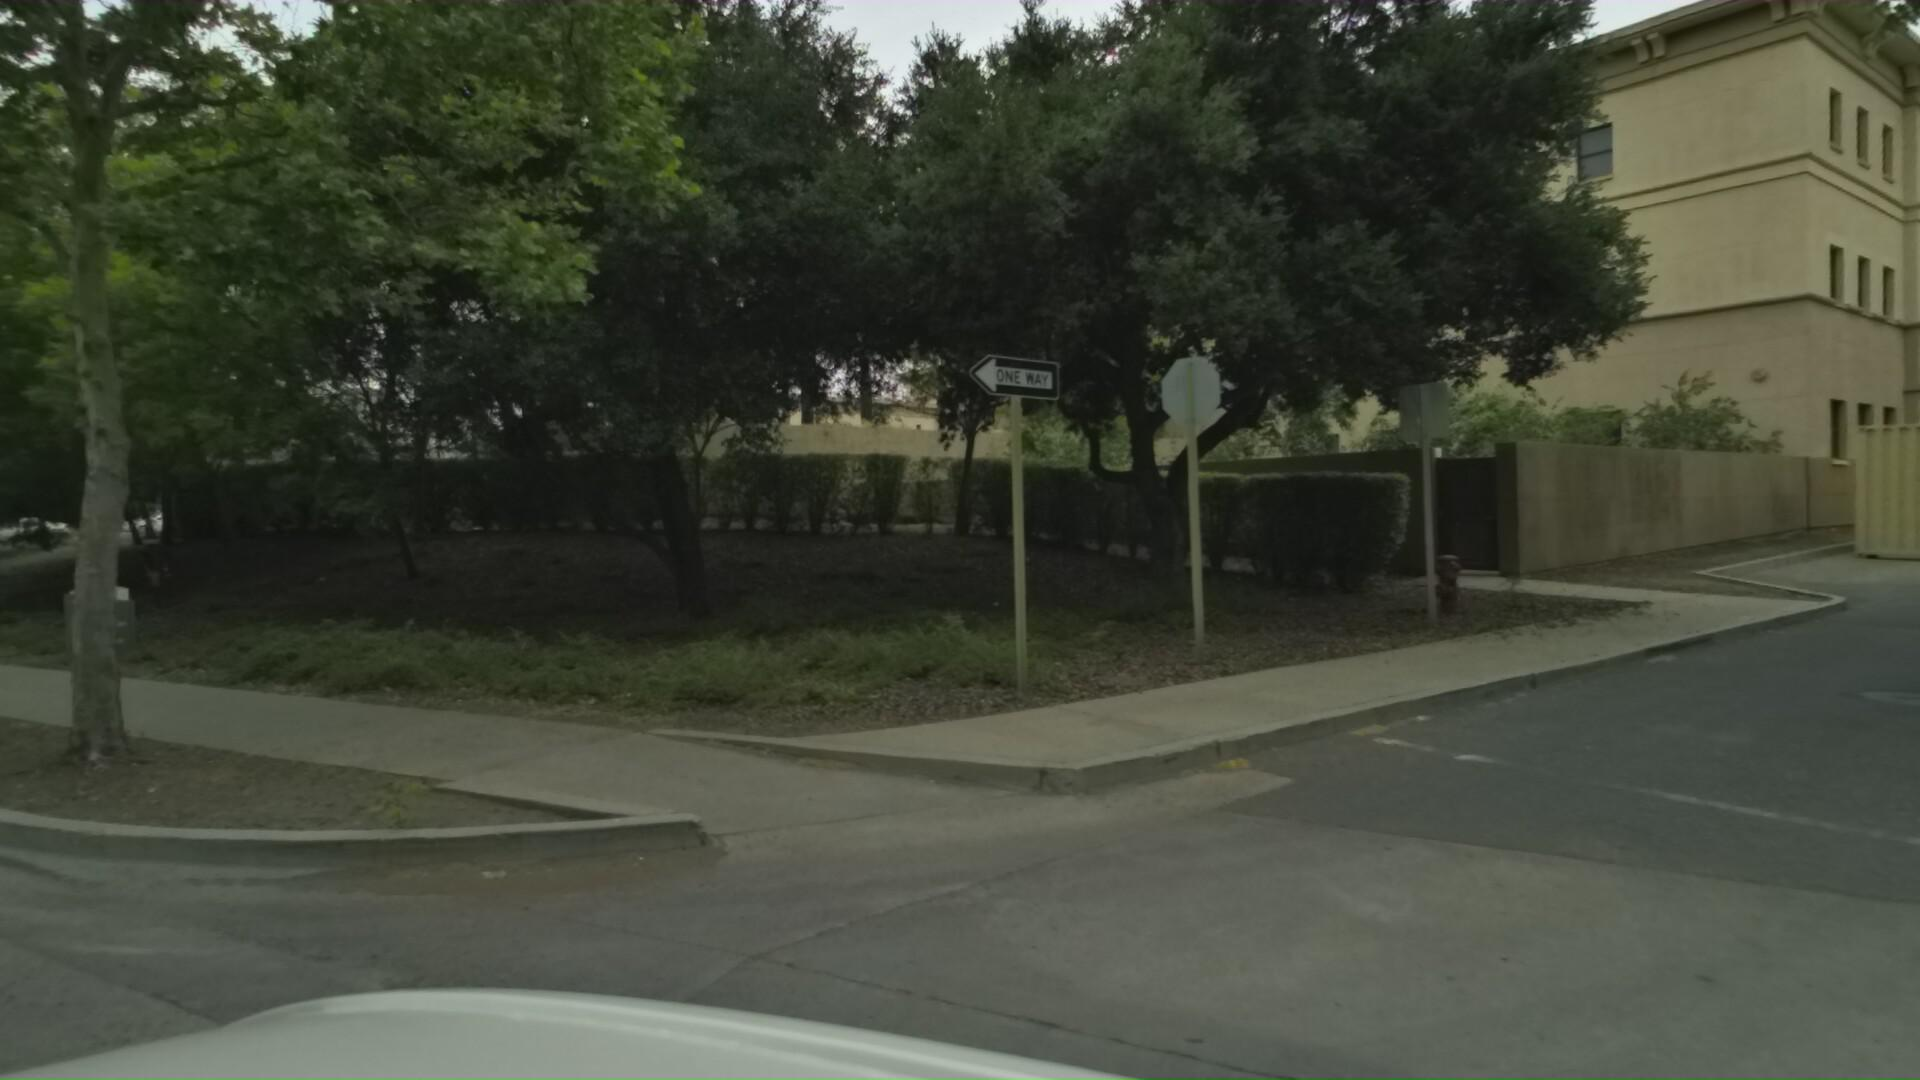car: (109, 498, 229, 533), (0, 506, 79, 543)
